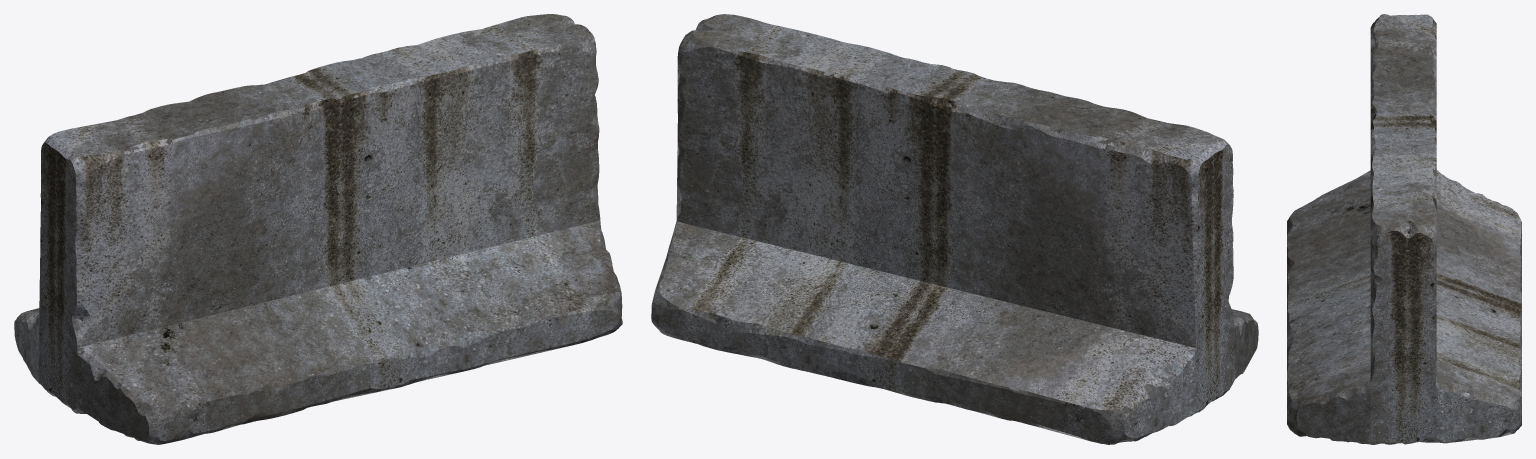
The model's file is Bet_blok_004-1 1.fbx.
3 renders of one model, left to right at view 1: azimuth 30°, elevation 25°; view 2: azimuth 150°, elevation 25°; view 3: azimuth 270°, elevation 25°, orthographic. The views are drawn at different scales.
Visible parts, largest first — view 1: Plane.006_dmg.002; view 2: Plane.006_dmg.002; view 3: Plane.006_dmg.002.
Part boxes in pixels (bbox=[...]): Plane.006_dmg.002: bbox=[14, 14, 622, 444]; Plane.006_dmg.002: bbox=[651, 14, 1258, 444]; Plane.006_dmg.002: bbox=[1287, 14, 1521, 444].
Size of the model in its own units: 200 by 93.81 by 91.82.
